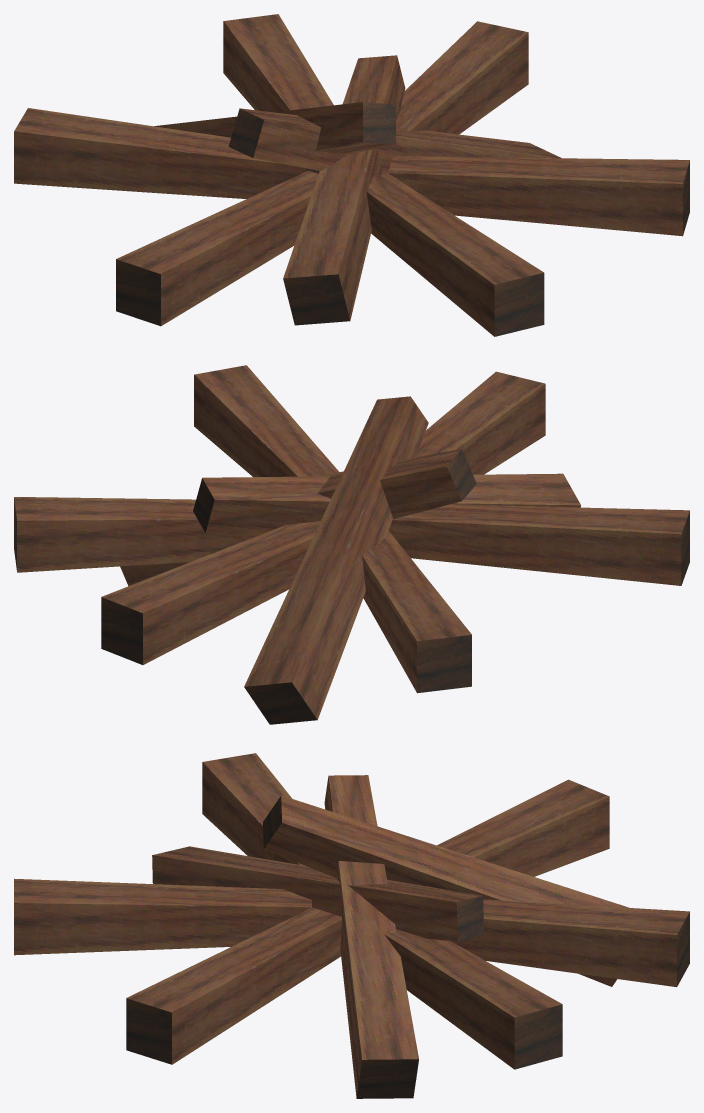
File: firewood.glb
3 renders of one model, top to bottom at view 1: azimuth 30°, elevation 25°; view 2: azimuth 150°, elevation 25°; view 3: azimuth 270°, elevation 25°, orthographic.
Parts seen in each view (by area): view 1: firewood; view 2: firewood; view 3: firewood.
Boxes of the visible parts, x1=… form: firewood: x1=14, y1=14, x2=689, y2=336; firewood: x1=14, y1=365, x2=689, y2=724; firewood: x1=14, y1=753, x2=689, y2=1098.
Bounding box in the file's own units: 3.1 × 1.11 × 3.35.
1 material, 1 textured.
